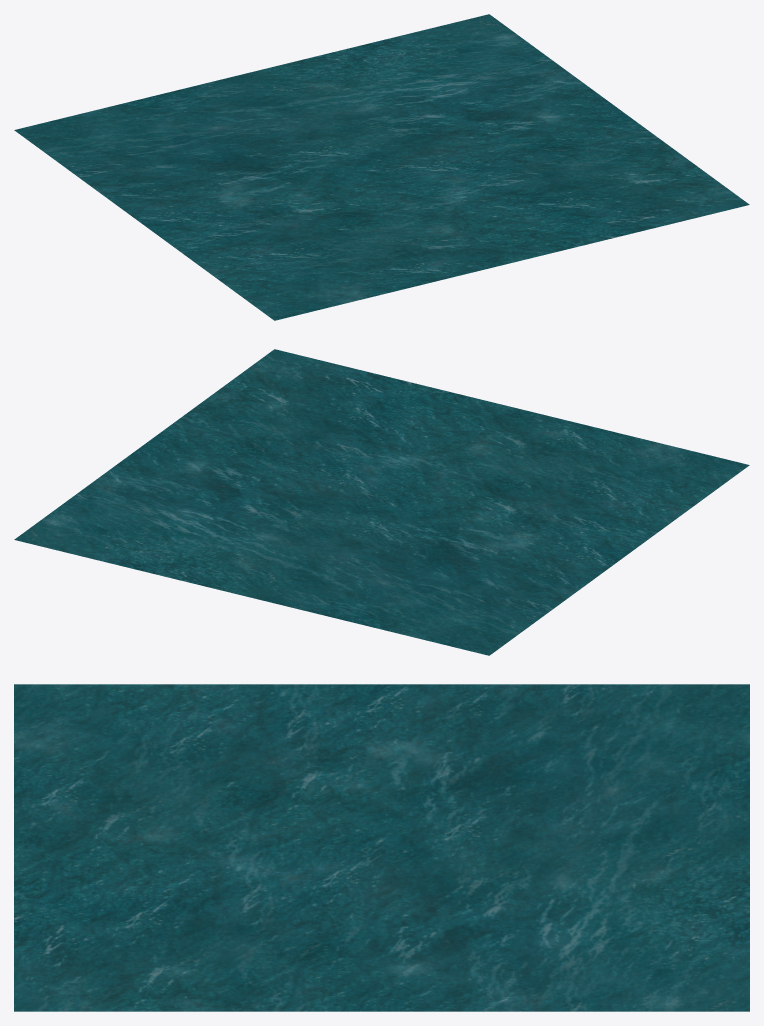
3 renders of one model, top to bottom at view 1: azimuth 30°, elevation 25°; view 2: azimuth 150°, elevation 25°; view 3: azimuth 270°, elevation 25°, orthographic. The views are drawn at different scales.
Visible parts, largest first — view 1: rios_Ocean_Surf_0; view 2: rios_Ocean_Surf_0; view 3: rios_Ocean_Surf_0.
Boxes of the visible parts, bbox=[...] form: rios_Ocean_Surf_0: bbox=[14, 14, 749, 320]; rios_Ocean_Surf_0: bbox=[14, 349, 749, 655]; rios_Ocean_Surf_0: bbox=[14, 684, 749, 1011].
Size of the model in its own units: 198 by 3.06e-05 by 188.
1 material, 1 textured.
